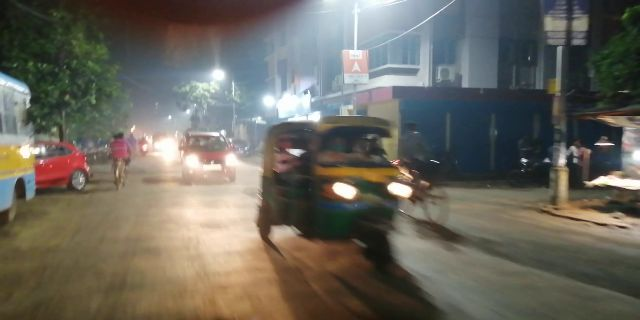Autorickshaw: (268, 112, 408, 262)
Car: (182, 129, 238, 192), (36, 139, 94, 198)
Cycle: (108, 128, 132, 191)
